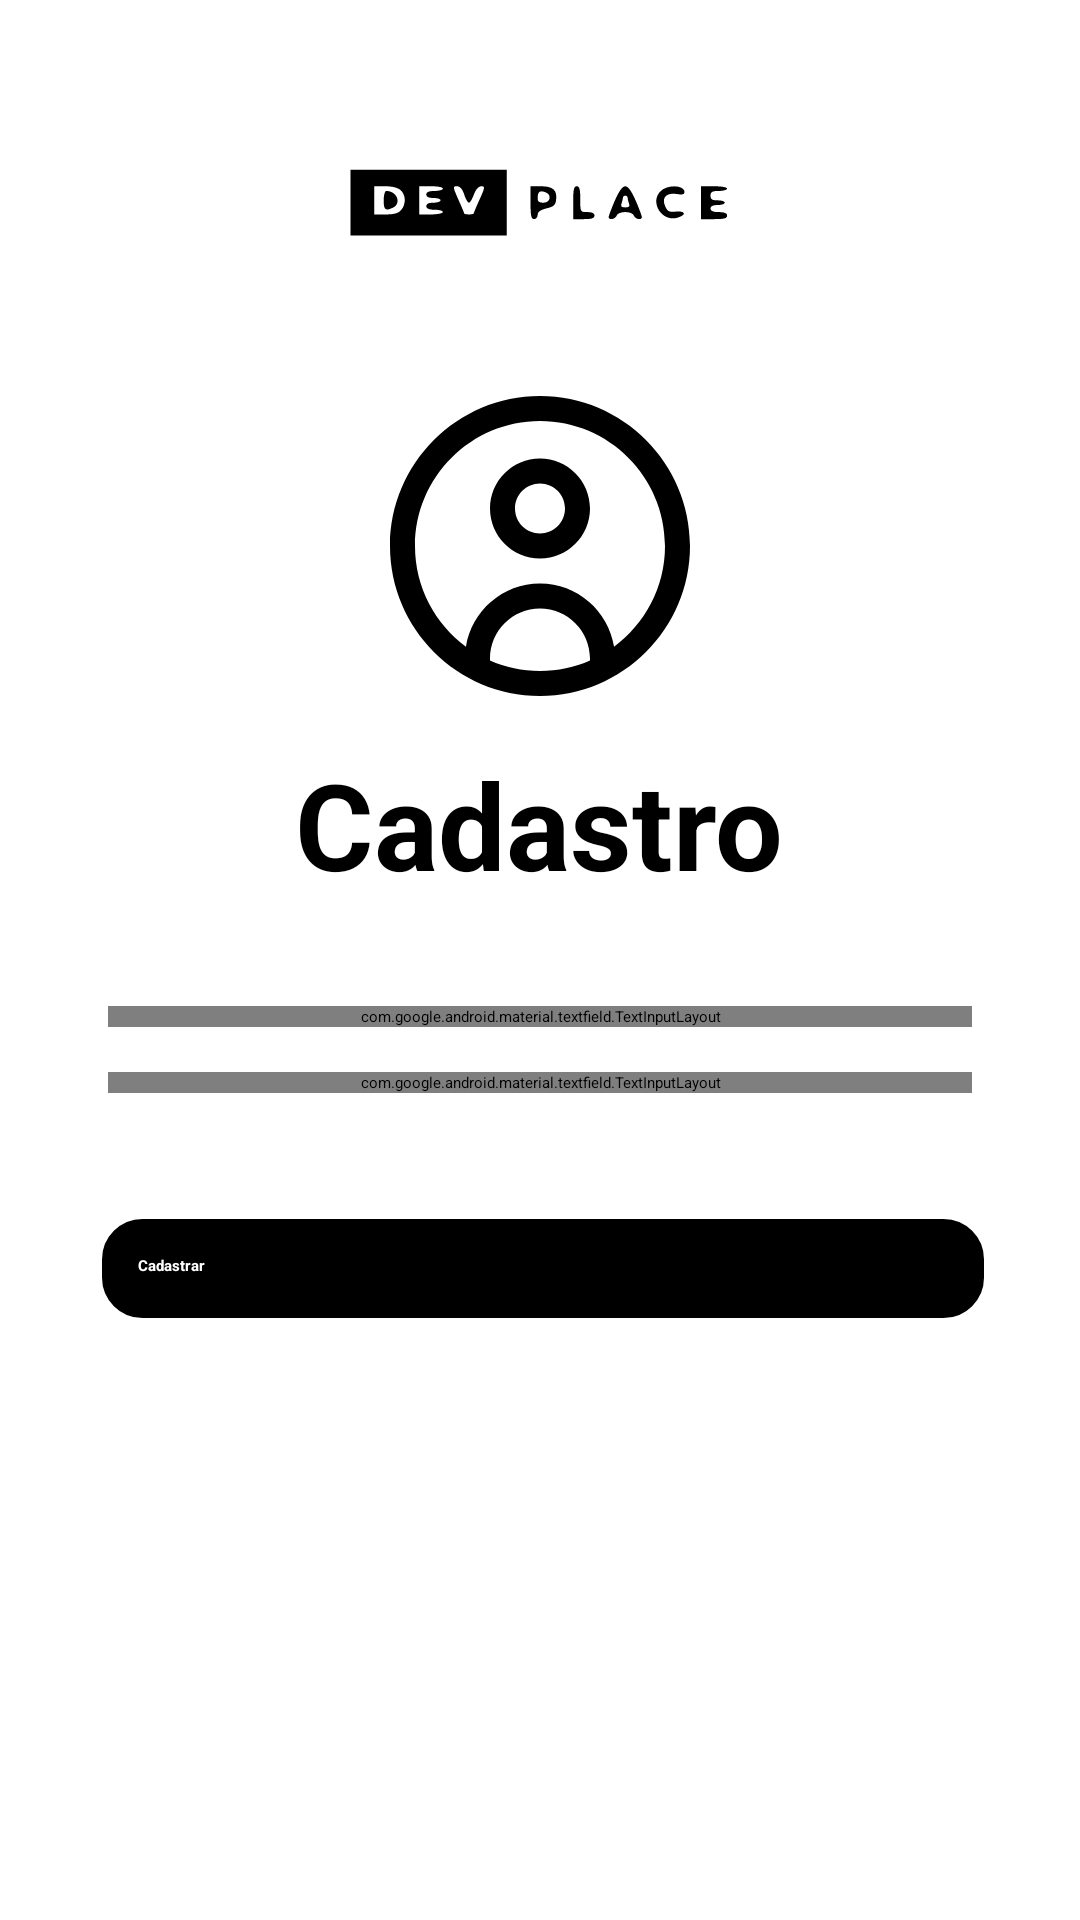

Icon click points for this 1080 x 1920 phone screenshot, format (x,y):
user: (540,546)
